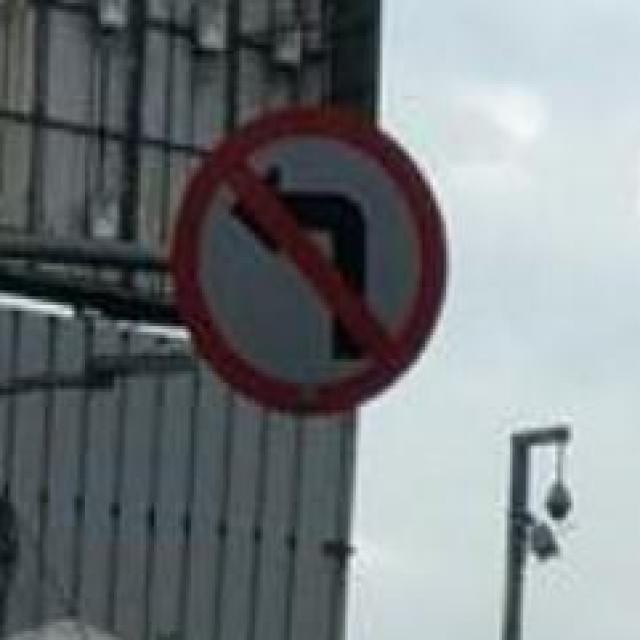traffic sign: (170, 114, 446, 422)
